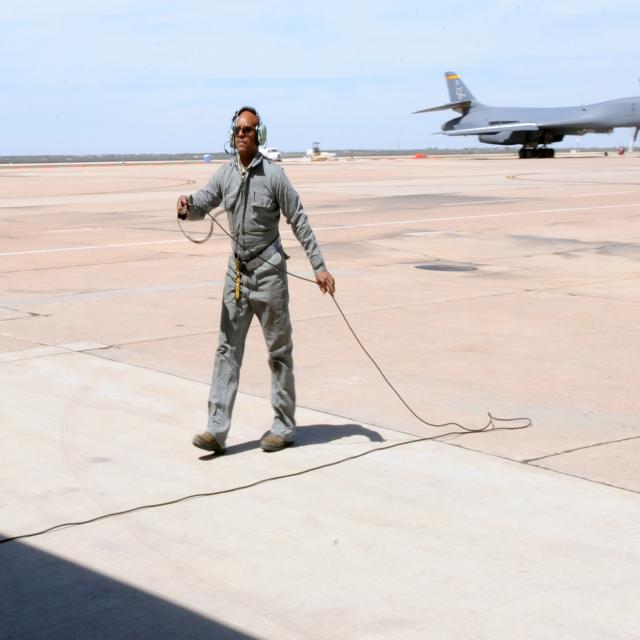MIL_Plane: (409, 70, 640, 158)
